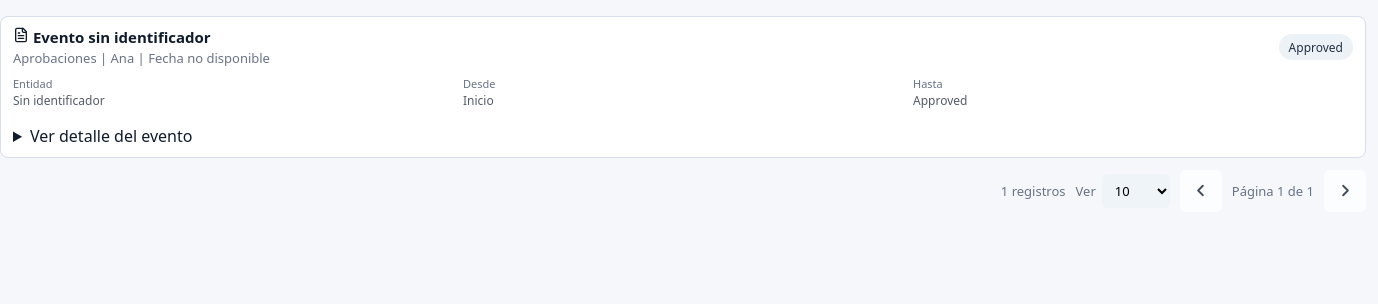
Test: audit components › renderiza detalle seguro y datos incompletos
expect the heading "Evento sin identificador" is shown: met, box [13, 27, 211, 47]
Click the heading "Ver detalle del evento" at x=111, y=136, box [30, 125, 192, 147]
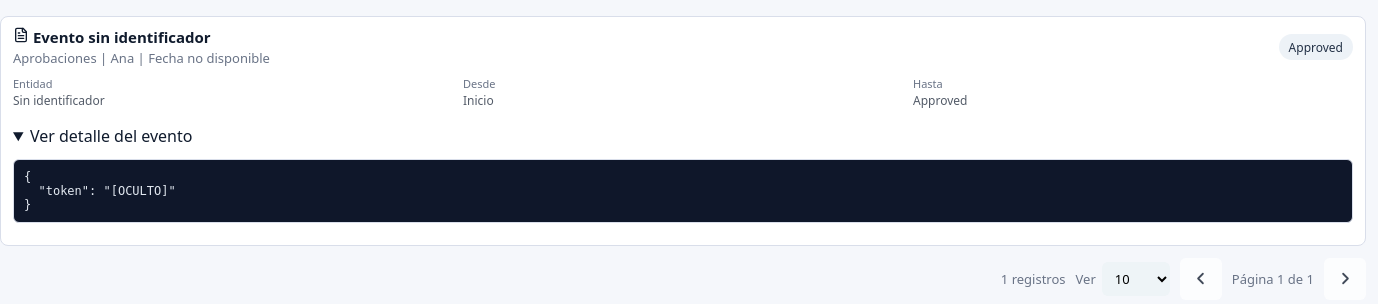
expect the text "{ \"token\": \"[OCULTO]\" }" is shown: met, box [13, 159, 1353, 223]
